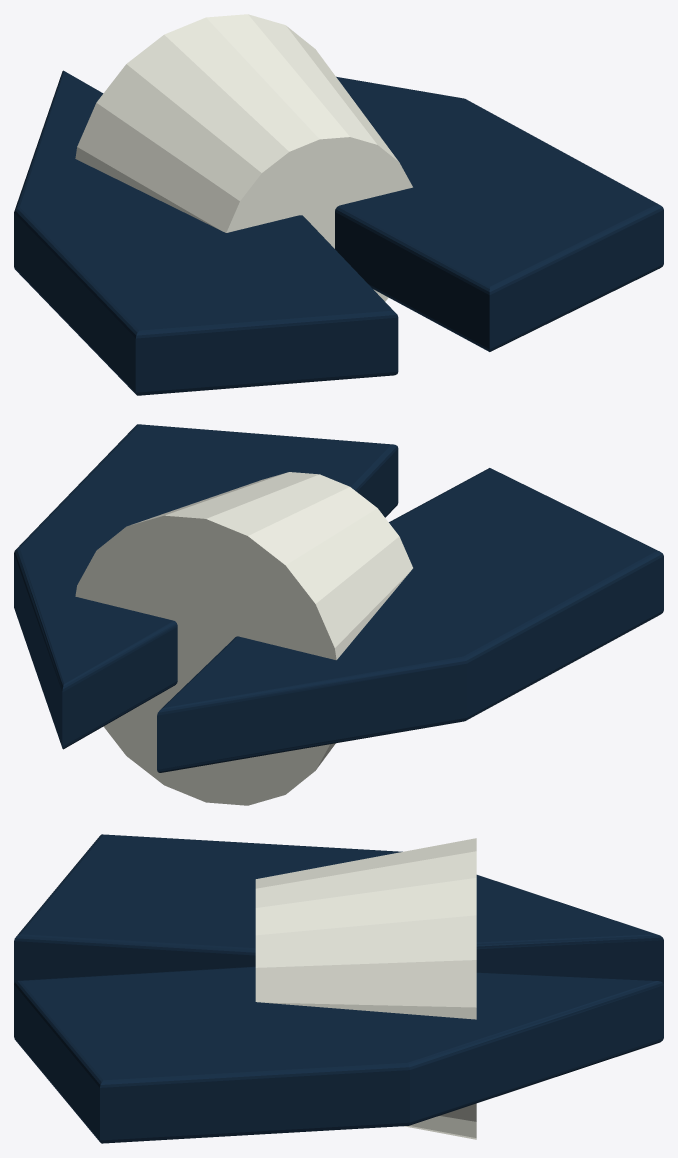
Rendered from hazard-splitter.glb.
The picture shows the model from 3 angles, top to bottom: view 1: azimuth 30°, elevation 25°; view 2: azimuth 150°, elevation 25°; view 3: azimuth 270°, elevation 25°; orthographic projection. The views are drawn at different scales.
Visible parts, largest first — view 1: dark_static, porcelain_static; view 2: dark_static, porcelain_static; view 3: dark_static, porcelain_static.
Boxes of the visible parts, left/top/right/bottom form: dark_static: left=14, top=70, right=663, bottom=395; porcelain_static: left=75, top=14, right=412, bottom=301; dark_static: left=14, top=424, right=663, bottom=772; porcelain_static: left=75, top=472, right=412, bottom=805; dark_static: left=14, top=834, right=663, bottom=1143; porcelain_static: left=255, top=838, right=476, bottom=1139.
Size of the model in its own units: 429 by 220 by 470.
